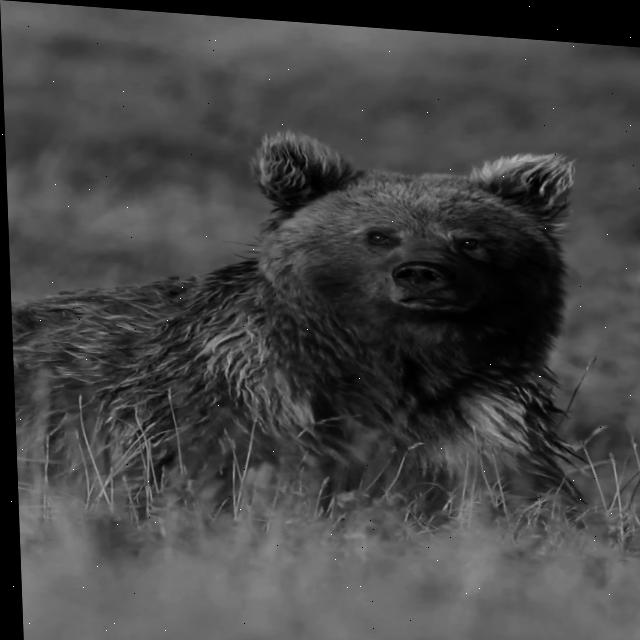Bear: (4, 109, 594, 562)
